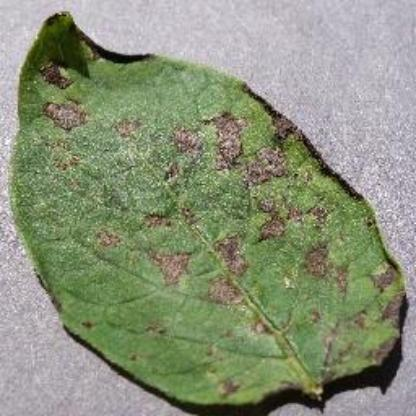Early-Blight: (12, 7, 408, 408)
